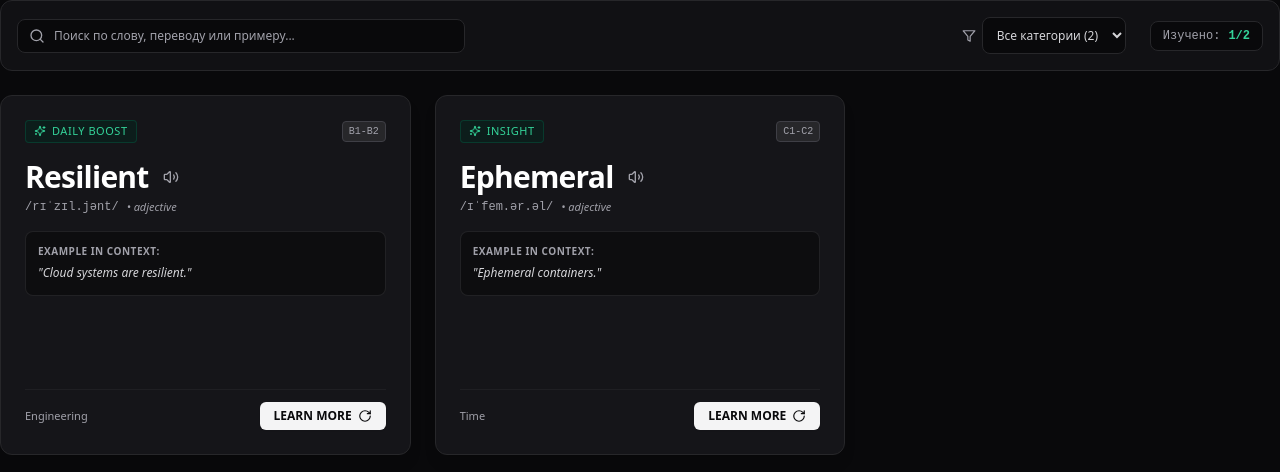
Test: CardList Component › filters cards by search term
Type "мимолётный" into the field with placeholder "Поиск по слову, переводу или примеру...".
click(241, 36); type("мимолётный")  # box [17,18,465,52]
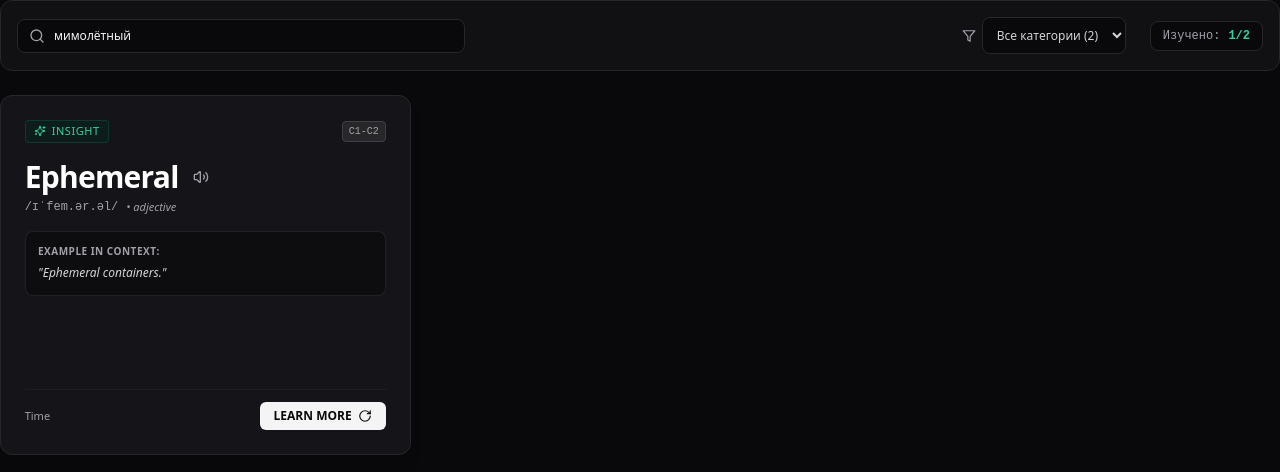
expect the element with test id "card-c-2" is shown: met, box [0,95,411,455]
expect the element with test id "card-c-1" is gone: met
